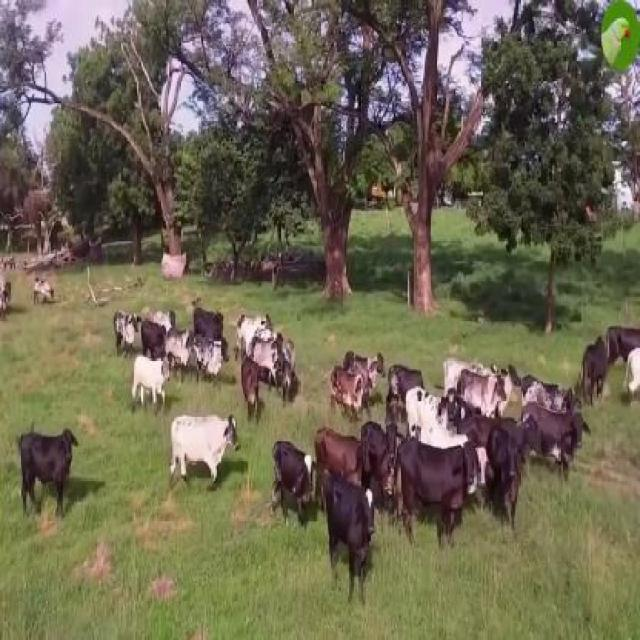Cow: (325, 482, 377, 606), (171, 414, 240, 491), (18, 431, 76, 518)
